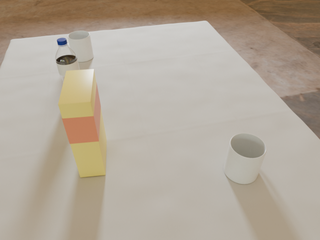bottle: (55, 38, 79, 83)
box: (58, 69, 106, 177)
cup: (224, 133, 266, 184), (68, 31, 94, 62)
